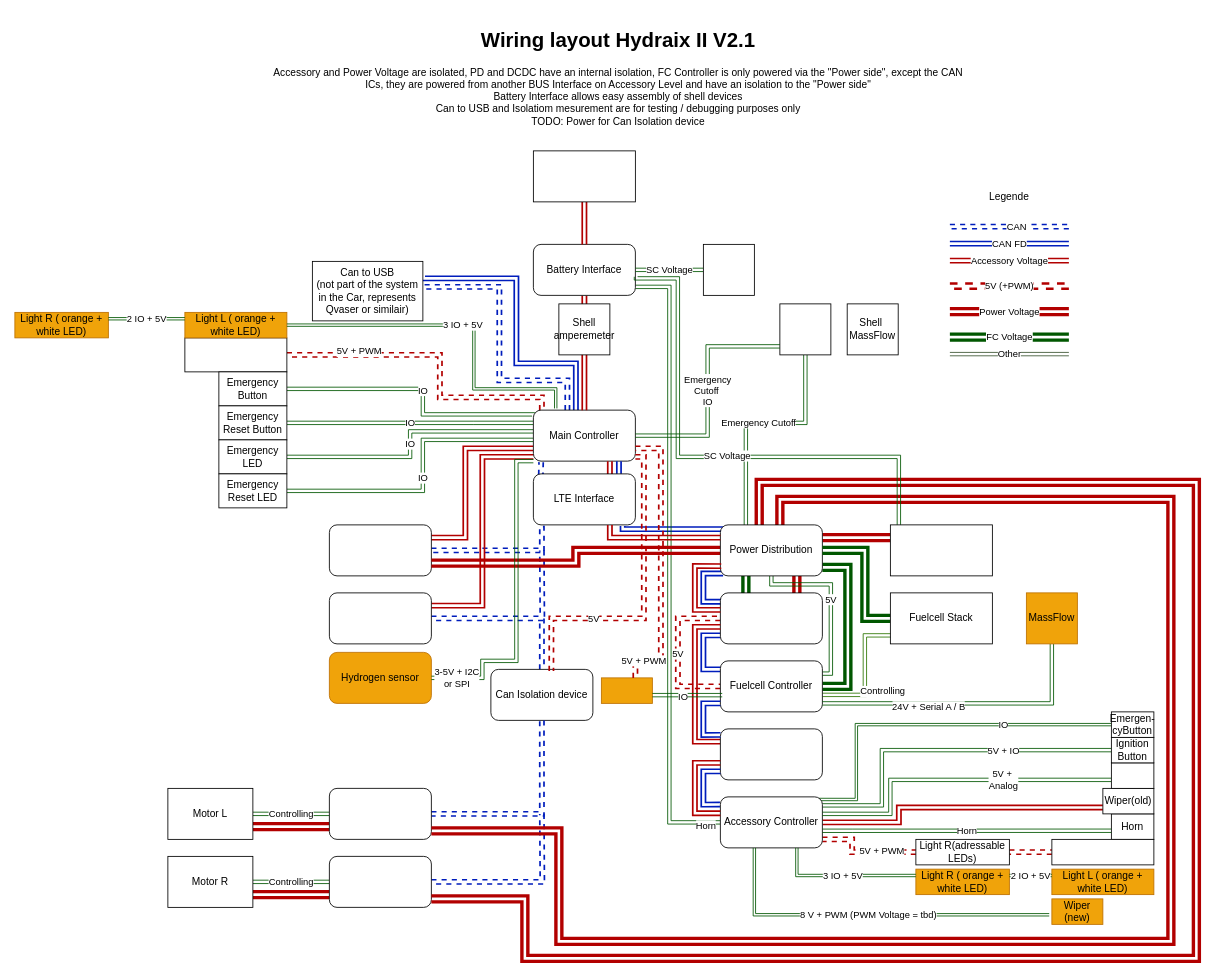
This 1216x978 diagram has some shape labels left out. The shapes that lost their labels are listed below. From the top down, each one's box as (x1, y1, x2, y2) in pixels, then its label:
(533, 150, 635, 202): Accessory Battery
(703, 244, 754, 295): Shell voltmeter
(779, 303, 831, 355): Shell telemetry
(184, 337, 287, 372): Backlight(adressable LEDs)
(329, 524, 431, 576): Isoaltion measurement
(890, 524, 992, 576): Supercapacitors
(329, 592, 431, 644): Hydrogen sensor (CAN)
(720, 592, 822, 644): DCDC
(601, 677, 652, 703): Relay
(720, 728, 822, 780): Steering Wheel
(1111, 762, 1154, 788): Break Pressure
(329, 788, 431, 839): VESC L
(1051, 839, 1154, 865): Light L(adressable LEDs)
(329, 856, 431, 907): VESC R
